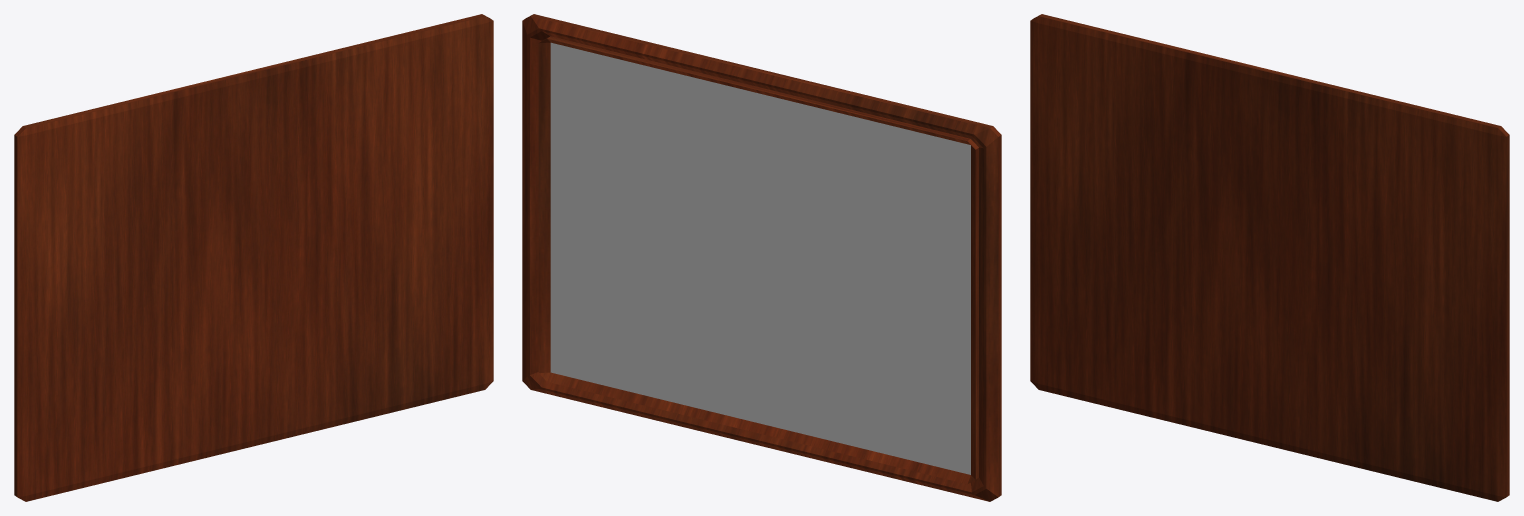
The model's file is frame.fbx.
3 renders of one model, left to right at view 1: azimuth 30°, elevation 25°; view 2: azimuth 150°, elevation 25°; view 3: azimuth 330°, elevation 25°, orthographic.
Parts seen in each view (by area): view 1: Plane; view 2: Plane; view 3: Plane.
Boxes of the visible parts, x1,y1,x2,y2 form: Plane: (14, 14, 493, 501); Plane: (522, 14, 1001, 501); Plane: (1030, 14, 1509, 501).
Size of the model in its own units: 533 by 400 by 14.
